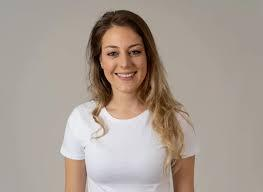person: (85, 3, 162, 102)
